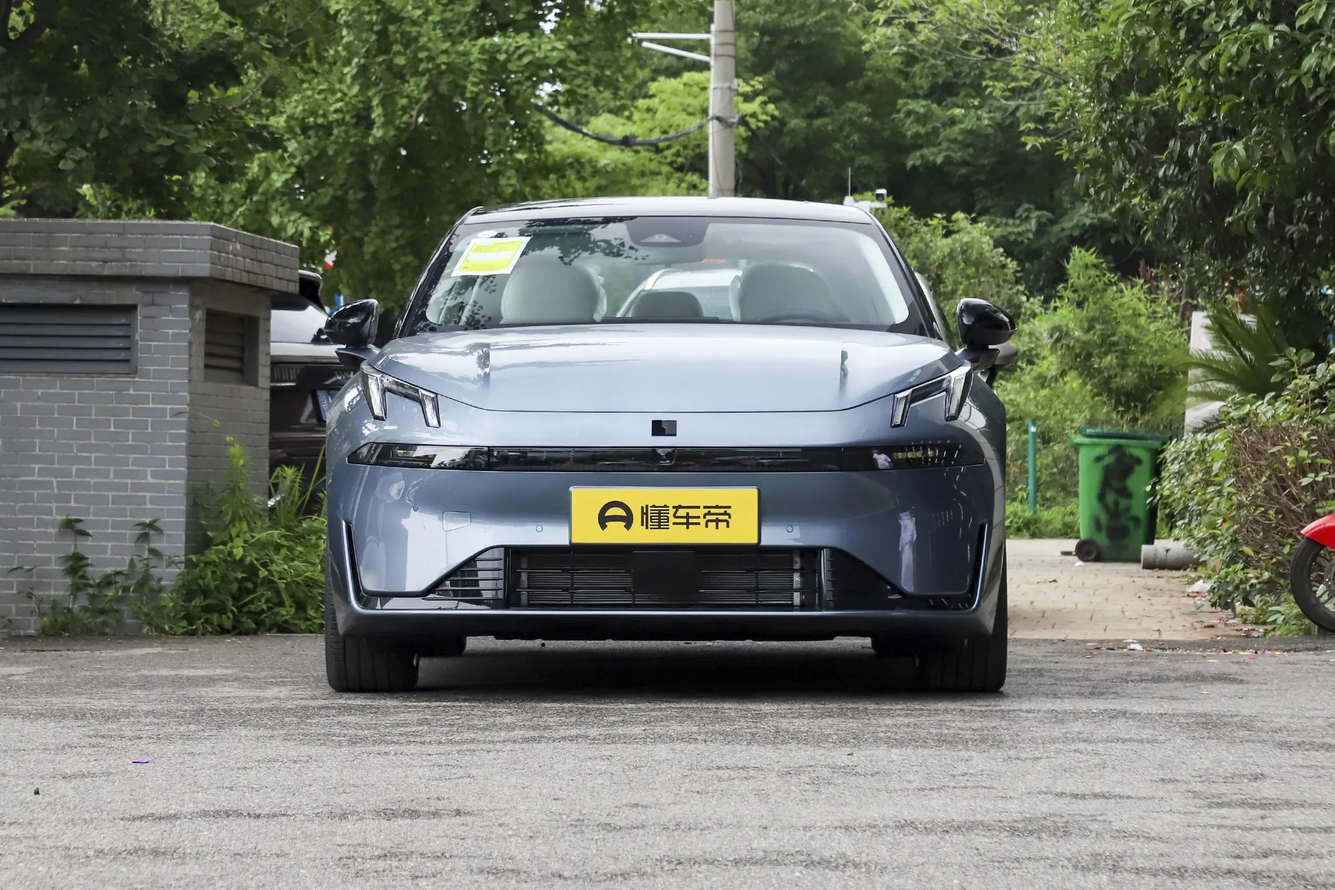LINK&CO: (652, 420, 677, 435)
